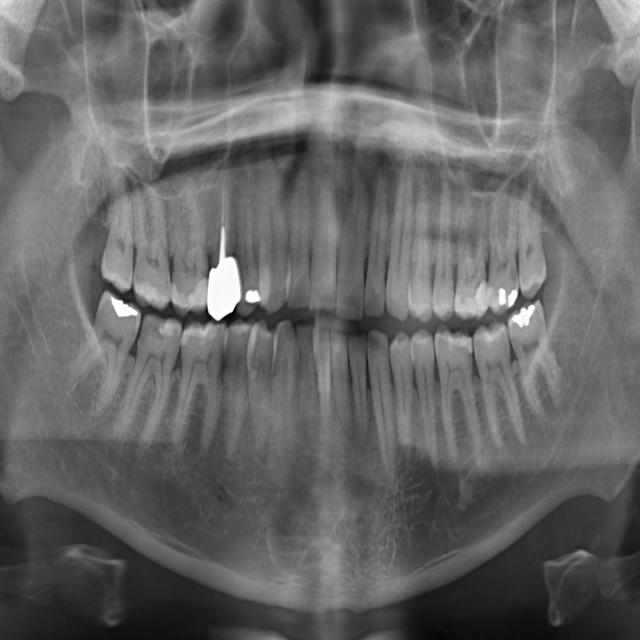AmalgamRestoration: (101, 294, 142, 318), (243, 284, 264, 317), (513, 301, 535, 331), (505, 282, 520, 314), (499, 277, 506, 309)
CompositeResinRestoration: (181, 324, 225, 356), (169, 281, 207, 317), (470, 276, 490, 316), (477, 319, 507, 345), (159, 318, 183, 348)
Crown: (207, 261, 241, 321)
DentalCaries: (139, 314, 164, 346), (495, 335, 514, 368), (507, 260, 519, 290), (198, 261, 210, 284)
RootCanalTreatment: (215, 168, 237, 261)
